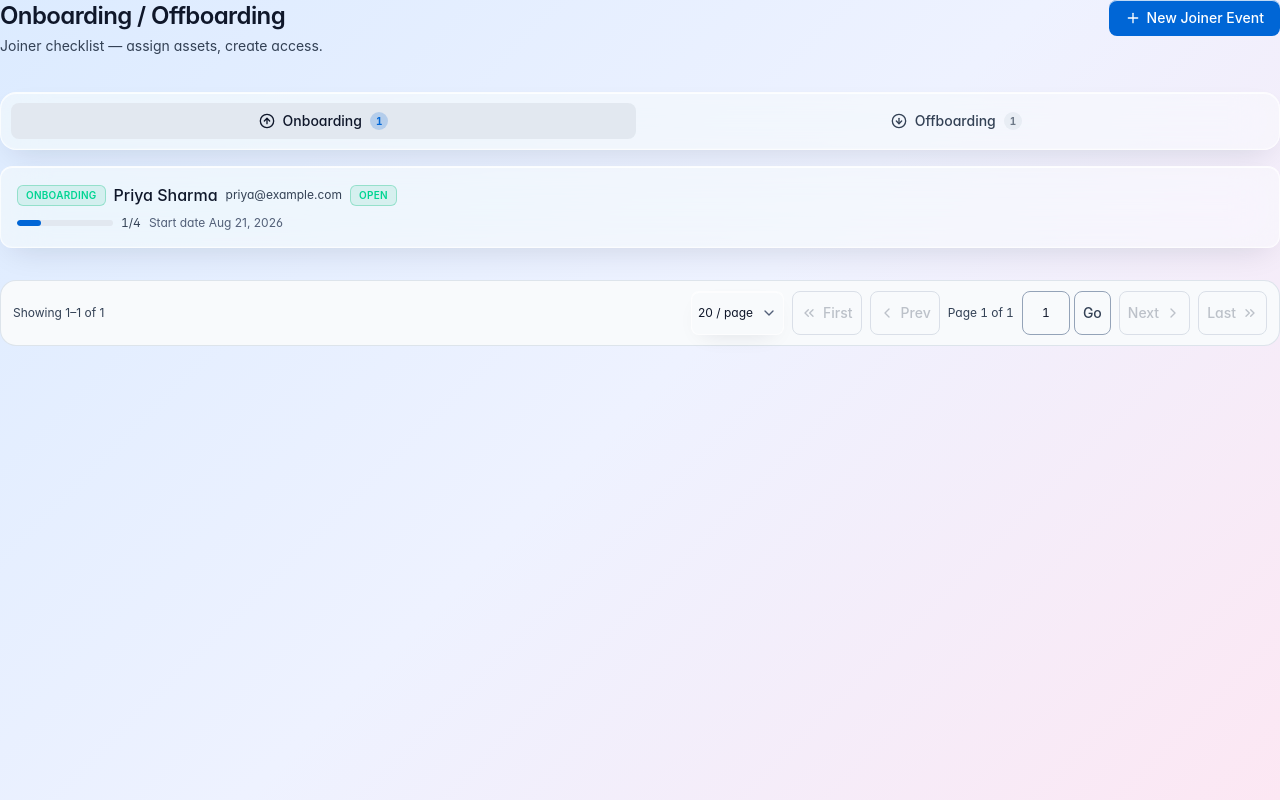
Test: Onboarding submit validation (FORM-02) › edit submit with a cleared name shows an inline error and blocks updateOnboardingEvent
This screenshot has width=1280, height=800.
Click the button with test id "onboarding-card". click: point(61, 195)
box: [0,166,1279,248]
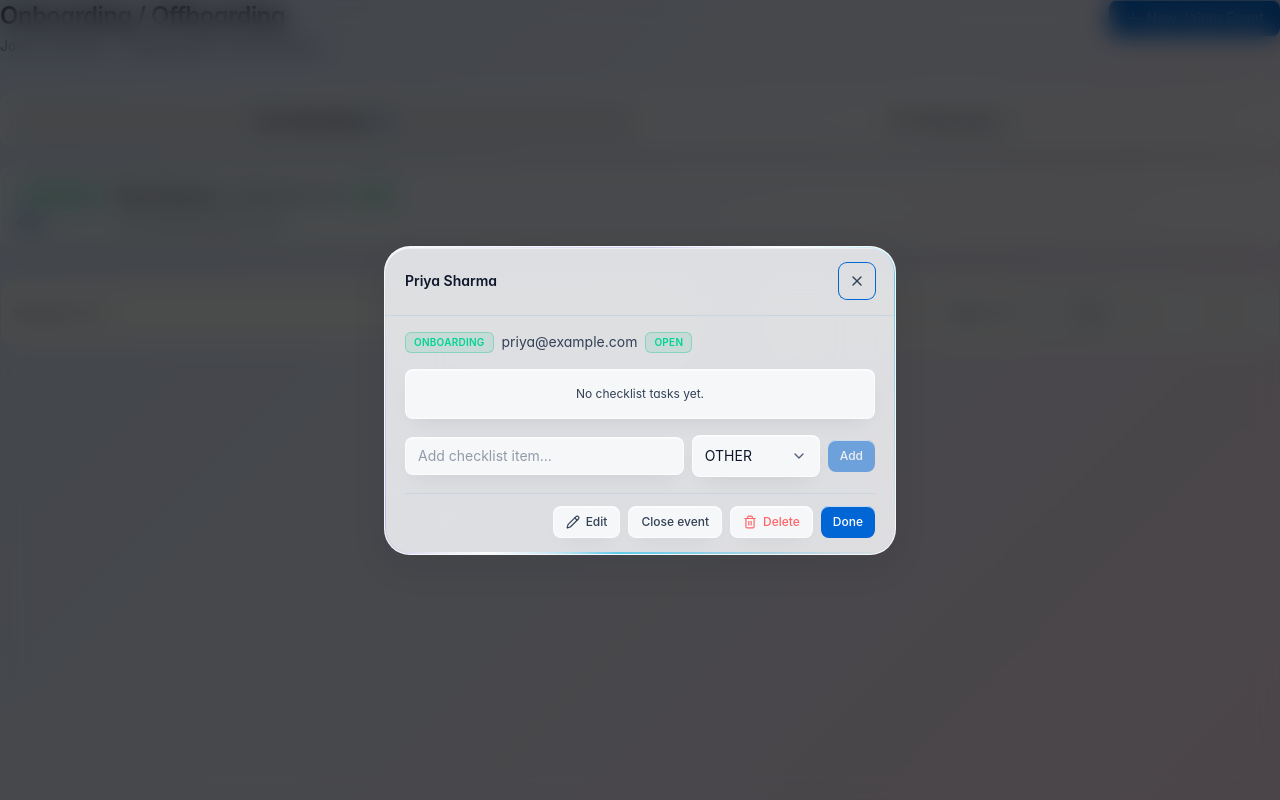
Click the button "Edit". click: point(586, 522)
box: [553,506,620,538]
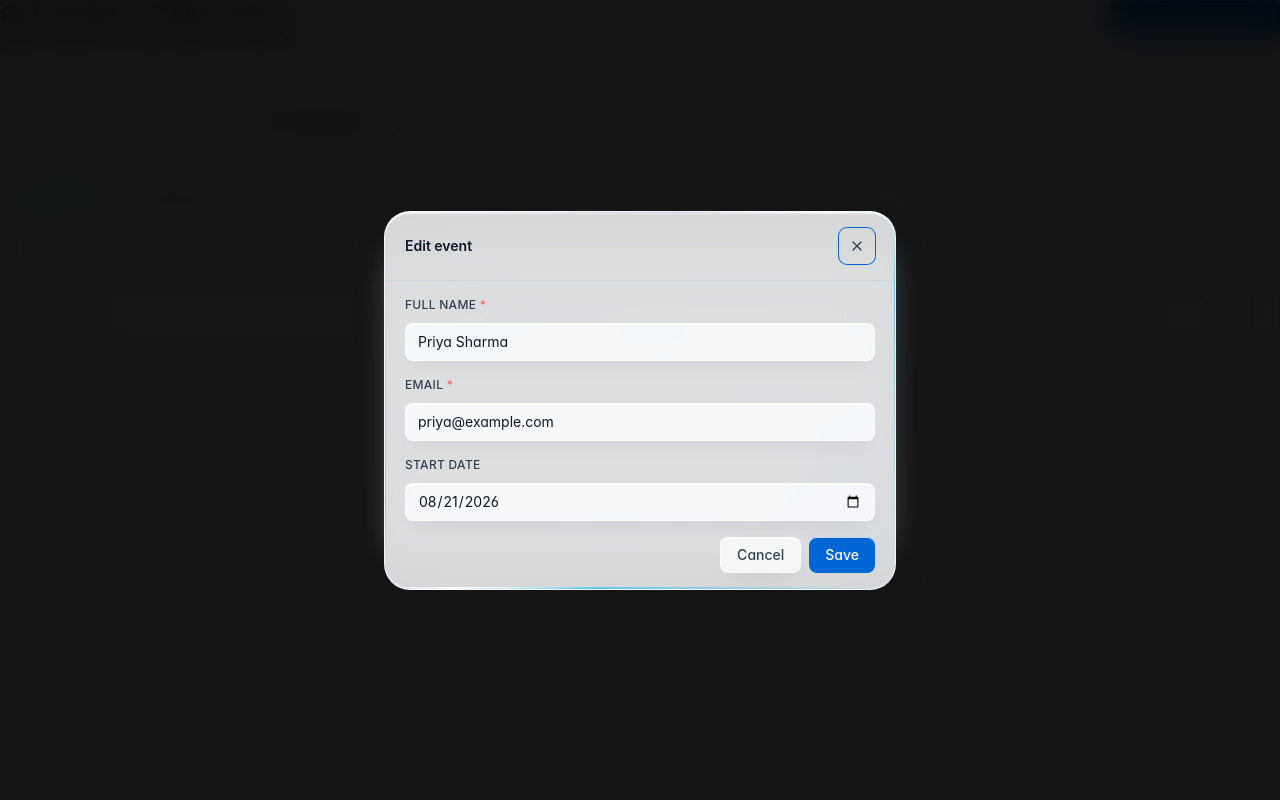
Check: the heading "Edit event" is shown, box [405,236,472,256]
Clear the field with id "edit-event-name". click: point(640, 342)
box: [405,322,875,360]
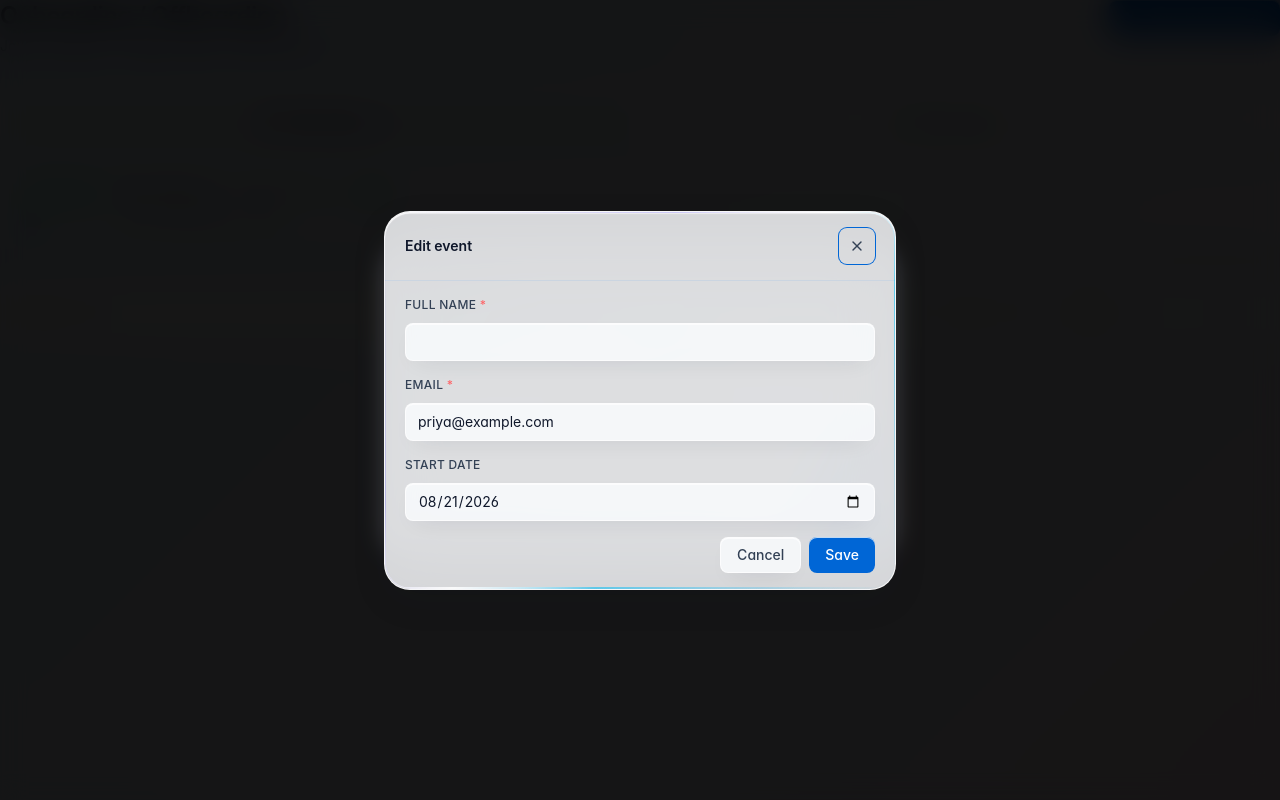
Click the button "Save". click: point(842, 554)
box: [809,536,875,572]
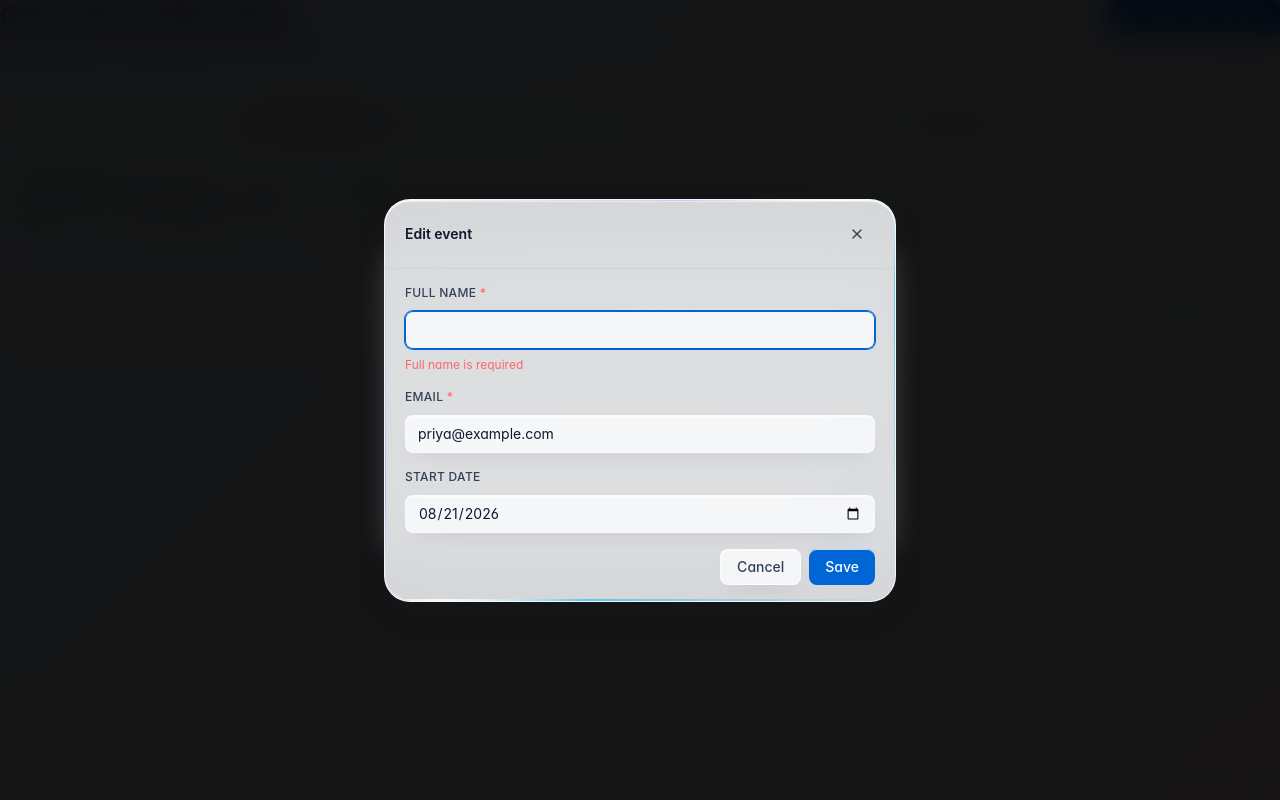
Check: the text "Full name is required" is shown, box [405,356,523,372]
